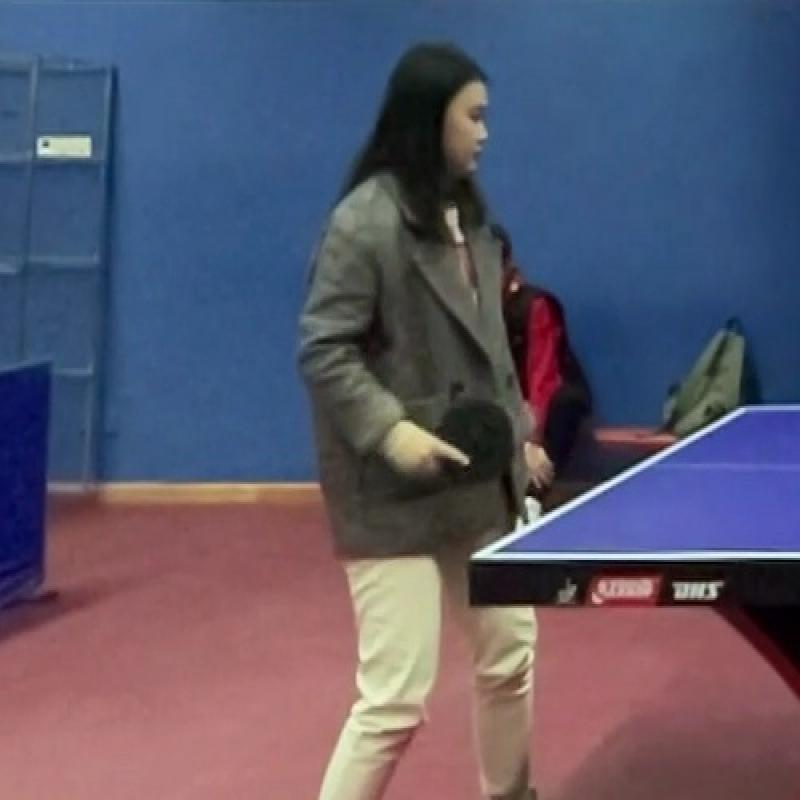bats: (424, 396, 533, 512)
